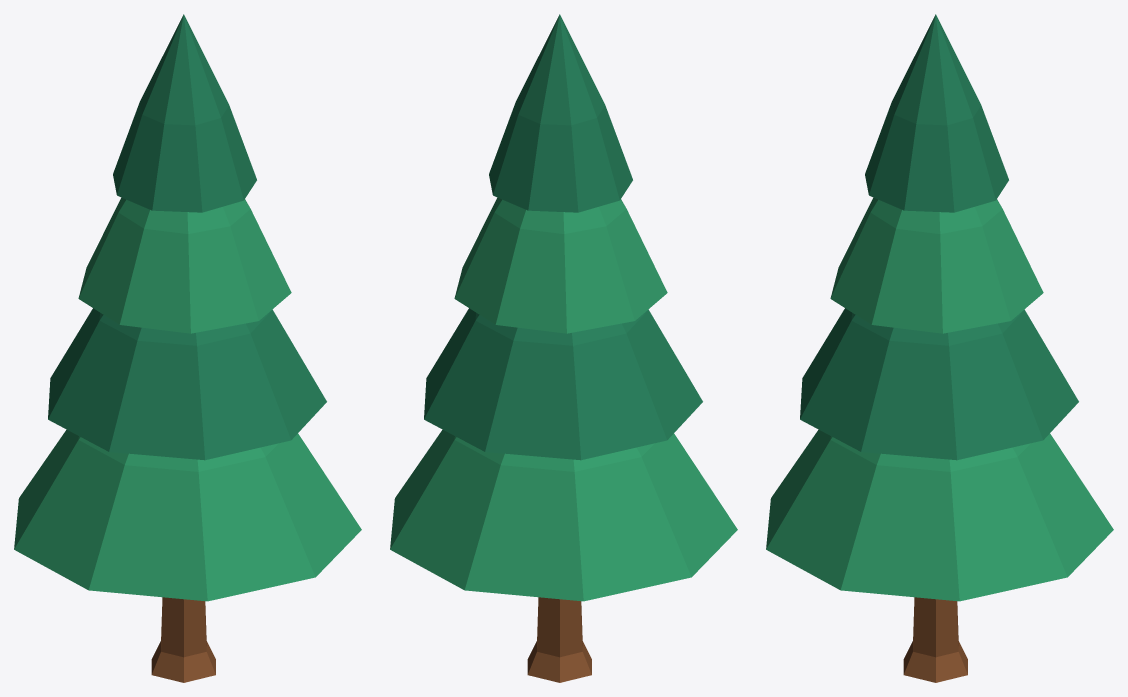
The model's file is pine_a.glb.
3 views of the same model, side by side, from view 1: azimuth 30°, elevation 25°; view 2: azimuth 150°, elevation 25°; view 3: azimuth 270°, elevation 25° (orthographic).
Visible parts, largest first — view 1: pine_a; view 2: pine_a; view 3: pine_a.
Boxes of the visible parts, x1,y1,x2,y2 form: pine_a: (14, 14, 361, 682); pine_a: (390, 14, 737, 682); pine_a: (766, 14, 1113, 682).
Bounding box in the file's own units: 4.53 × 9.3 × 4.49.
